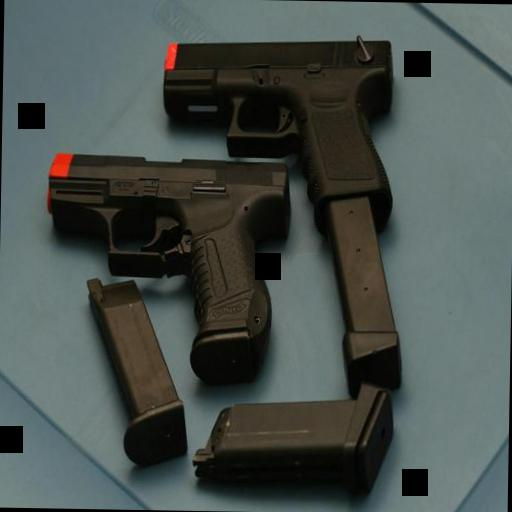Handgun: (42, 146, 295, 388), (156, 36, 396, 230)
